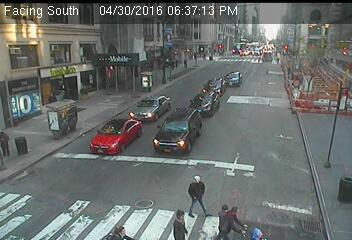neg: (289, 35, 309, 61), (58, 103, 76, 127), (86, 85, 102, 107), (279, 147, 295, 169), (291, 75, 307, 97), (117, 145, 132, 166), (331, 162, 346, 183), (222, 76, 237, 95), (128, 88, 143, 107), (89, 153, 103, 173), (12, 137, 25, 154), (160, 139, 173, 156), (274, 64, 287, 80), (268, 33, 280, 49), (180, 90, 191, 105), (333, 78, 343, 92), (254, 100, 264, 112), (322, 48, 330, 59), (222, 39, 229, 49)
pos: (179, 171, 212, 215), (218, 198, 245, 234), (213, 199, 237, 230), (169, 206, 192, 237), (114, 221, 128, 239), (246, 221, 259, 238), (179, 57, 189, 71), (171, 56, 181, 69), (167, 59, 176, 71)
